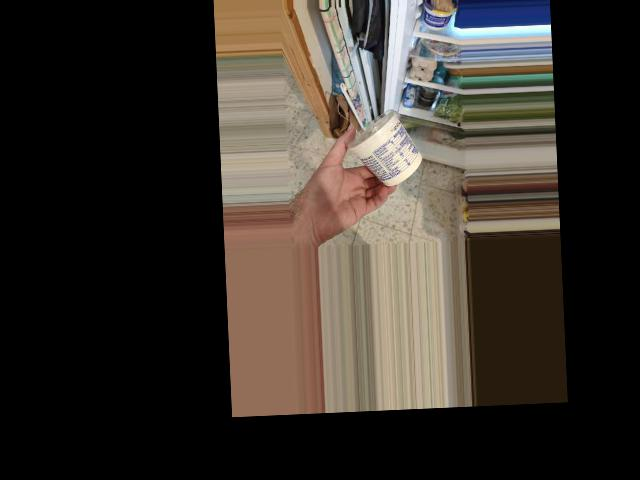cotage: (347, 105, 424, 190)
